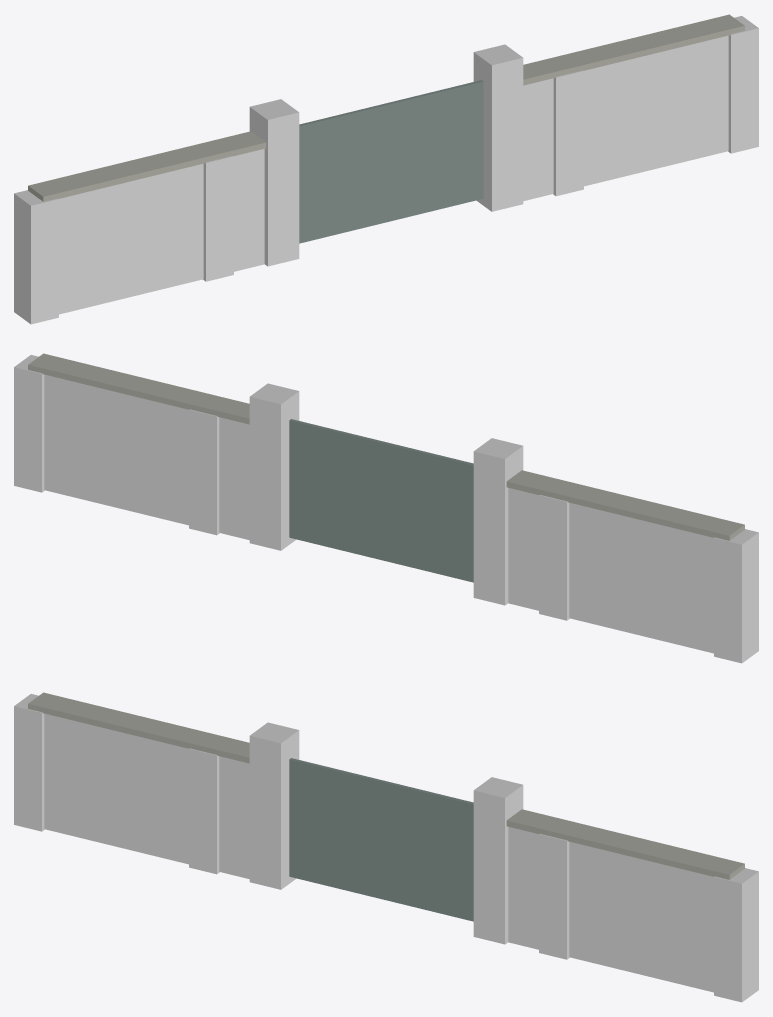
The model's file is SM_Tapia_v4_Porton_LOD1.fbx.
3 renders of one model, top to bottom at view 1: azimuth 30°, elevation 25°; view 2: azimuth 150°, elevation 25°; view 3: azimuth 330°, elevation 25°, orthographic.
Parts seen in each view (by area): view 1: SM_huerta_nules_v9_LOD1; view 2: SM_huerta_nules_v9_LOD1; view 3: SM_huerta_nules_v9_LOD1.
Part boxes in pixels (x1,y1,x2,y2): SM_huerta_nules_v9_LOD1: [14, 14, 758, 324]; SM_huerta_nules_v9_LOD1: [14, 353, 758, 663]; SM_huerta_nules_v9_LOD1: [14, 692, 758, 1002].
Size of the model in its own units: 10.4 by 2.01 by 0.45.
